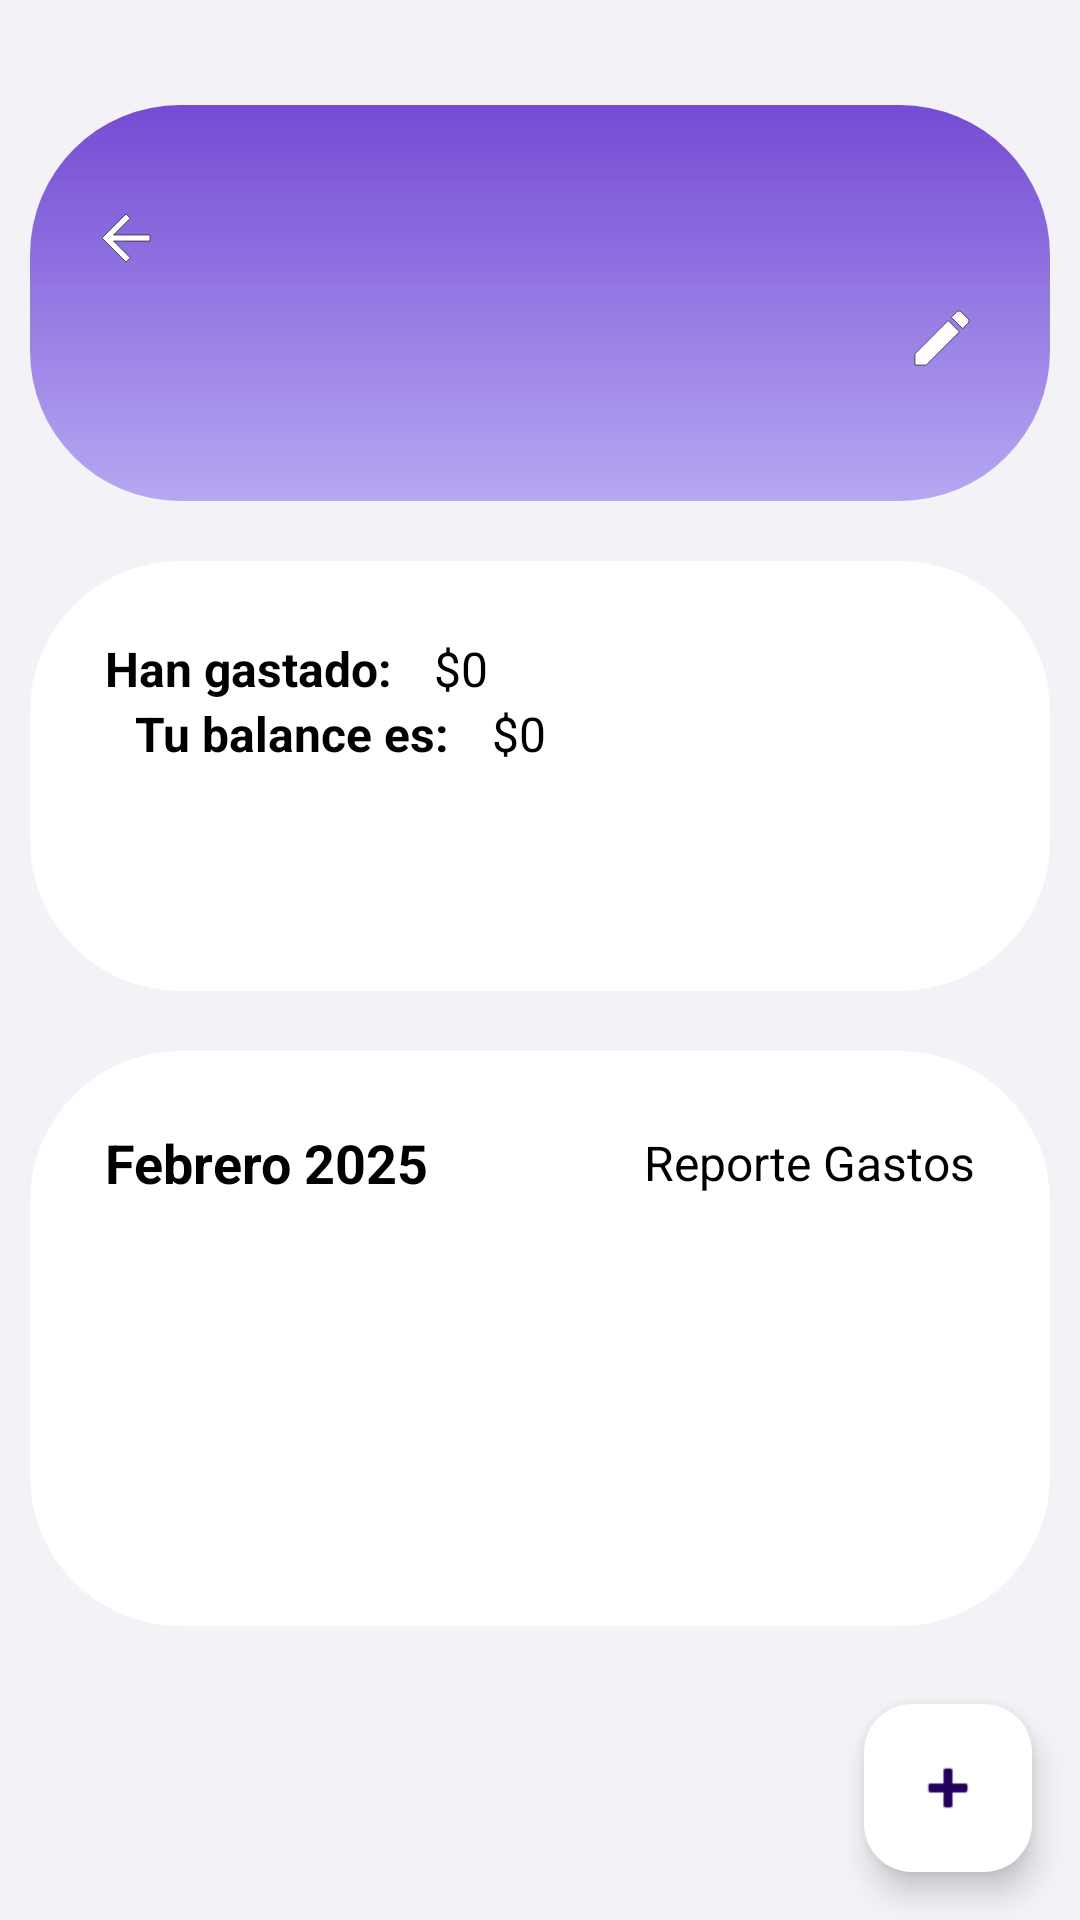

Icon bounding boxes for this 1080x1920 phone screenshot, format (x1, y1, x2, y2):
add: (864, 1704, 1032, 1872)
Volver: (102, 214, 151, 262)
